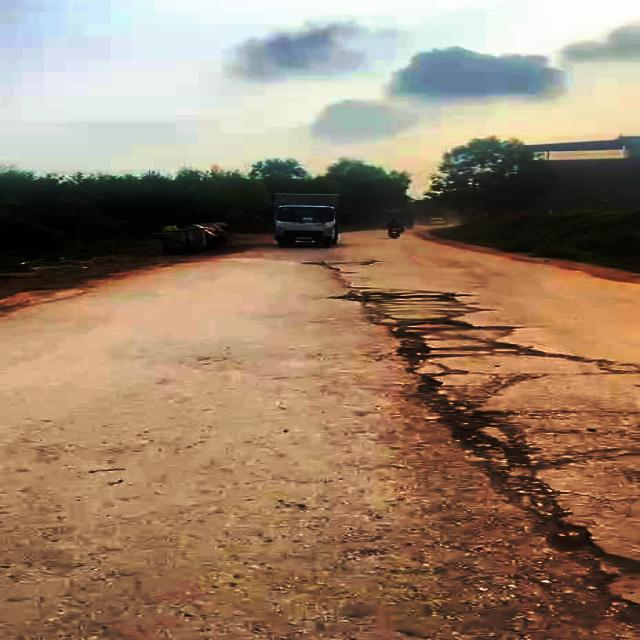pothole: (416, 380, 534, 468), (539, 524, 640, 584), (388, 318, 470, 360), (332, 285, 461, 304)
